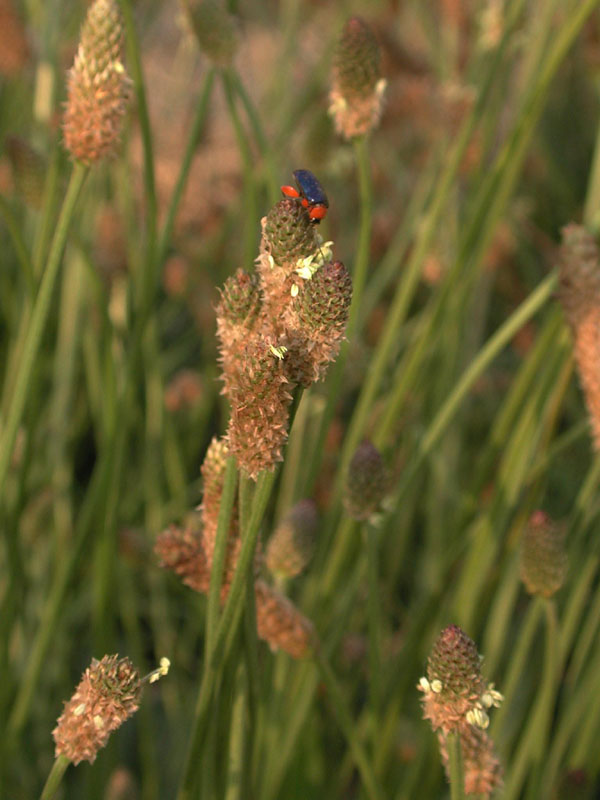buckhorn plantain: (171, 156, 340, 676), (59, 7, 143, 259), (39, 639, 163, 800), (416, 618, 525, 798)
